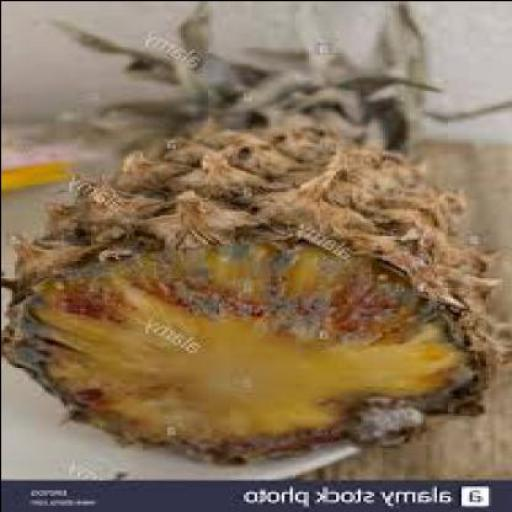biodegradable: (2, 113, 511, 462), (48, 1, 511, 143), (3, 156, 82, 187)
